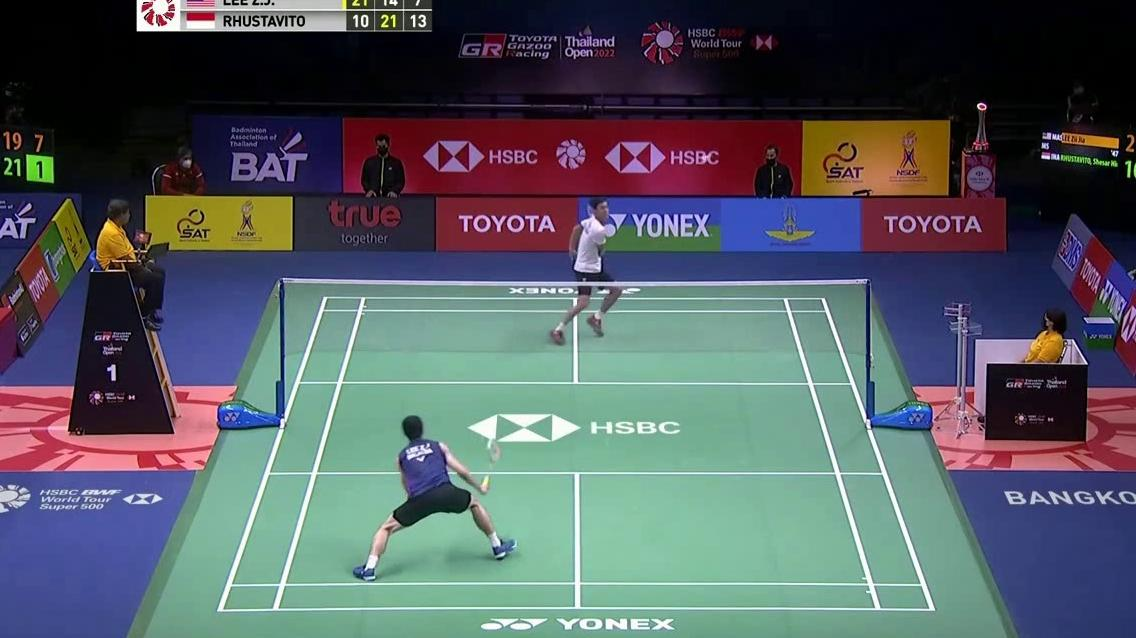racket: (480, 438, 503, 491)
shuttle: (702, 154, 711, 161)
